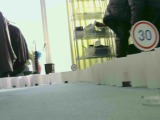speed_30: (129, 19, 160, 50)
